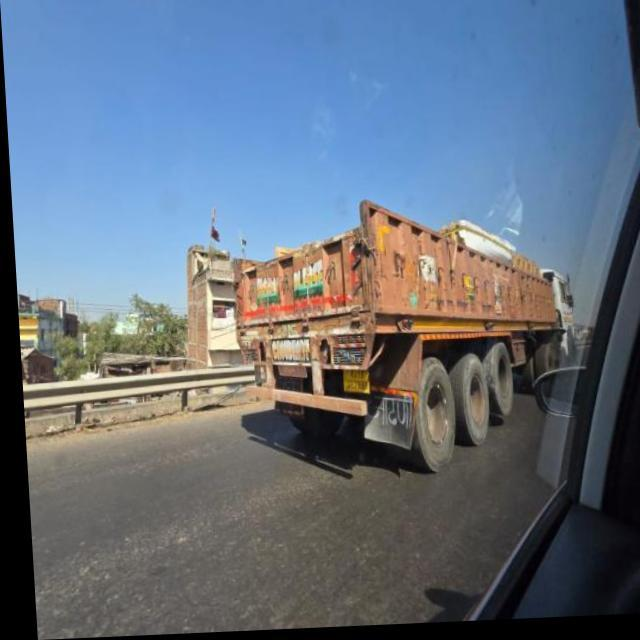uncovered: (220, 214, 562, 488)
